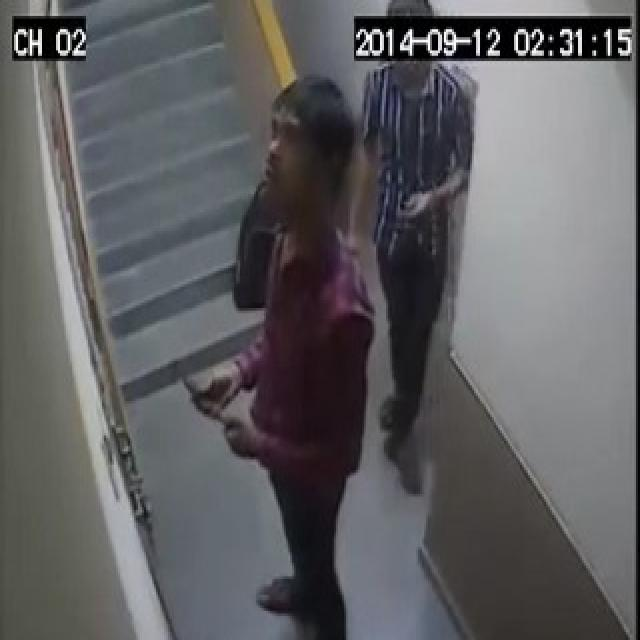thief: (236, 69, 464, 640)
